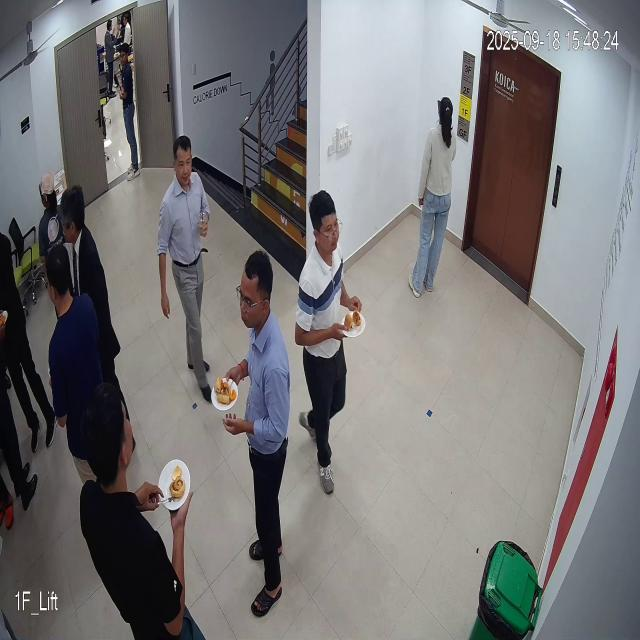face: (234, 245, 276, 333), (305, 187, 347, 259), (171, 133, 201, 189)
